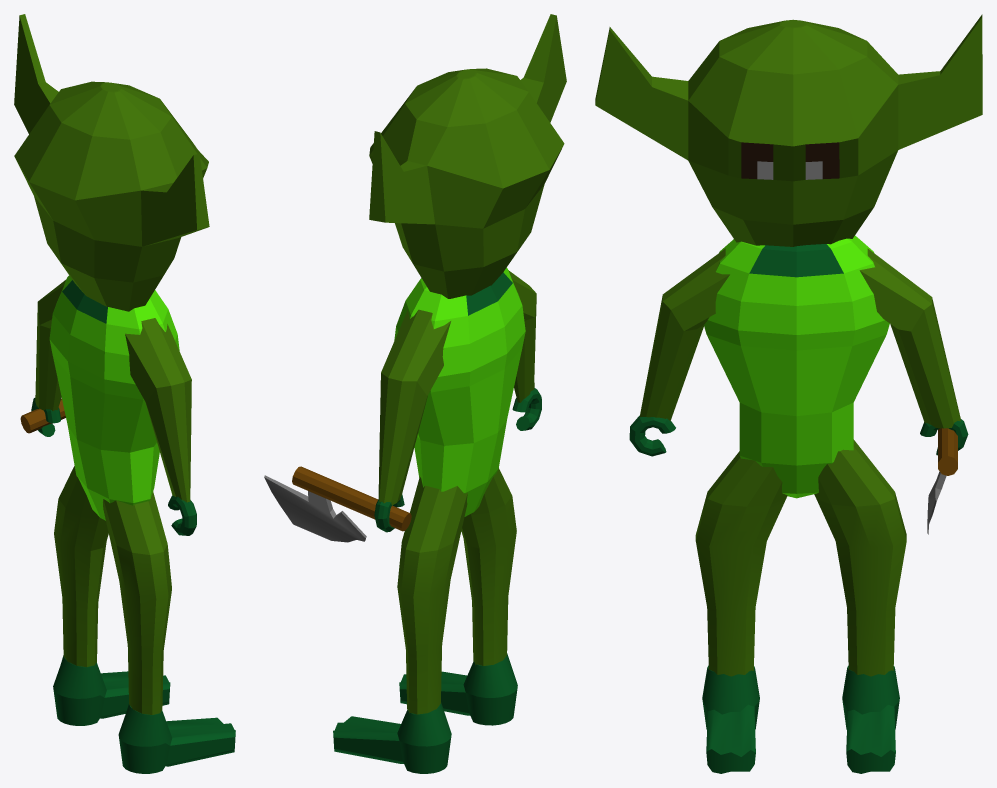
Rendered from Goblin.fbx.
3 views of the same model, side by side, from view 1: azimuth 30°, elevation 25°; view 2: azimuth 150°, elevation 25°; view 3: azimuth 270°, elevation 25° (orthographic). The views are drawn at different scales.
Visible parts, largest first — view 1: pSphere9; view 2: pSphere9; view 3: pSphere9.
Part boxes in pixels (x1,y1,x2,y2): pSphere9: [14, 14, 235, 773]; pSphere9: [264, 14, 566, 773]; pSphere9: [595, 14, 982, 773].
Size of the model in its own units: 62.48 by 185 by 91.07.
